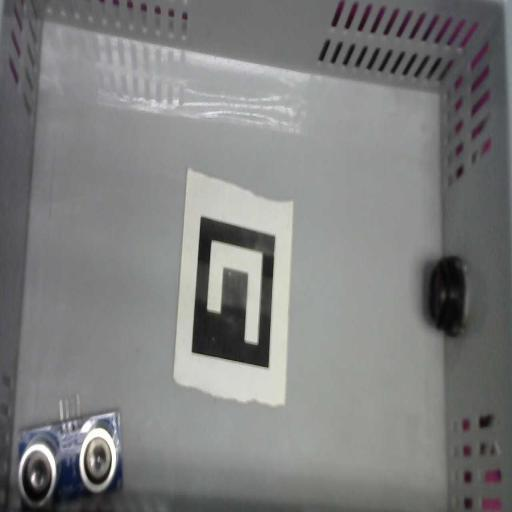QR: (173, 167, 294, 407)
ultrasonic_hc-sr04: (18, 395, 122, 507)
